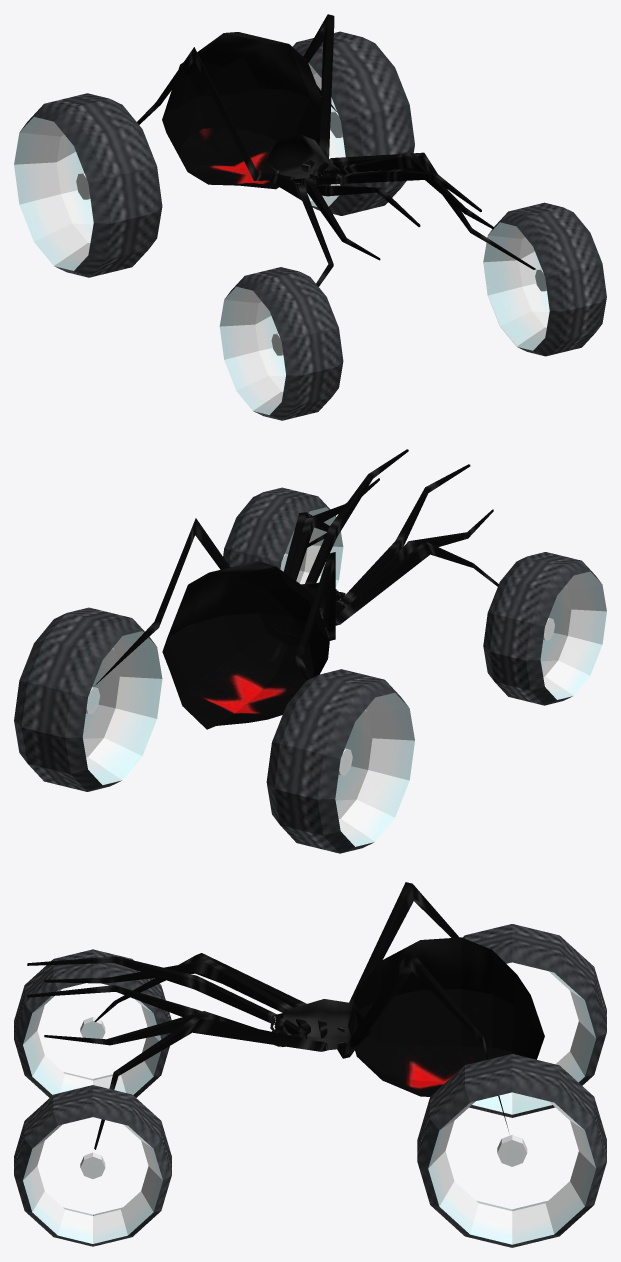
The model's file is blackwidow.glb.
3 views of the same model, one above another, from view 1: azimuth 30°, elevation 25°; view 2: azimuth 150°, elevation 25°; view 3: azimuth 270°, elevation 25° (orthographic). The views are drawn at different scales.
Parts seen in each view (by area): view 1: wheel8 (×4), body4, legs4, head4; view 2: wheel8 (×4), body4, legs4; view 3: wheel8 (×4), body4, legs4, head4.
Part boxes in pixels (x1=…): wheel8 (×4): x1=14, y1=31, x2=606, y2=420; body4: x1=162, y1=32, x2=321, y2=189; legs4: x1=137, y1=14, x2=535, y2=286; head4: x1=266, y1=134, x2=339, y2=185; wheel8 (×4): x1=14, y1=487, x2=606, y2=853; body4: x1=162, y1=561, x2=329, y2=729; legs4: x1=93, y1=449, x2=498, y2=687; wheel8 (×4): x1=14, y1=924, x2=606, y2=1247; body4: x1=348, y1=937, x2=544, y2=1096; legs4: x1=27, y1=882, x2=508, y2=1149; head4: x1=275, y1=999, x2=371, y2=1050.
Bounding box in the file's own units: 4.88 × 3.49 × 7.4.
Materials: 7 (7 with a texture image).
